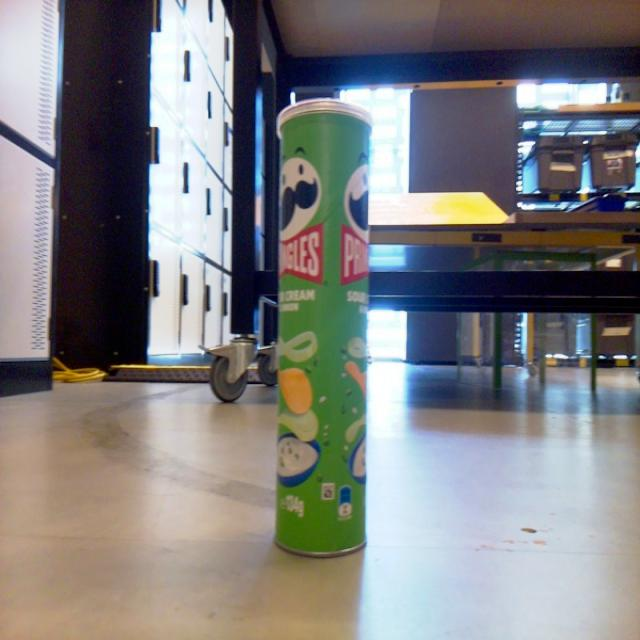greenpringles: (260, 83, 392, 572)
